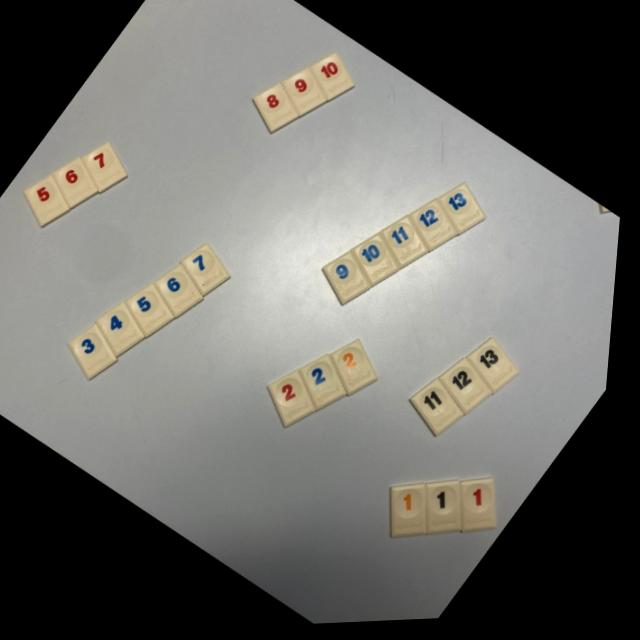black_1: (434, 485, 471, 537)
black_11: (416, 384, 471, 441)
black_12: (445, 363, 499, 419)
black_13: (473, 343, 526, 398)
blue_10: (356, 239, 403, 290)
blue_11: (384, 220, 432, 272)
blue_12: (413, 204, 462, 255)
blue_13: (441, 188, 489, 239)
blue_2: (305, 359, 353, 413)
blue_3: (74, 326, 123, 381)
blue_4: (101, 304, 150, 358)
blue_5: (130, 286, 179, 339)
blue_6: (159, 266, 208, 319)
blue_7: (186, 245, 234, 298)
blue_9: (328, 255, 375, 308)
orange_1: (399, 489, 436, 542)
orange_2: (336, 343, 384, 399)
red_1: (468, 483, 505, 537)
red_10: (310, 55, 356, 104)
red_2: (274, 374, 323, 430)
red_5: (26, 177, 73, 227)
red_6: (55, 159, 101, 210)
red_7: (84, 143, 129, 194)
red_8: (254, 85, 301, 135)
red_9: (283, 71, 328, 118)
